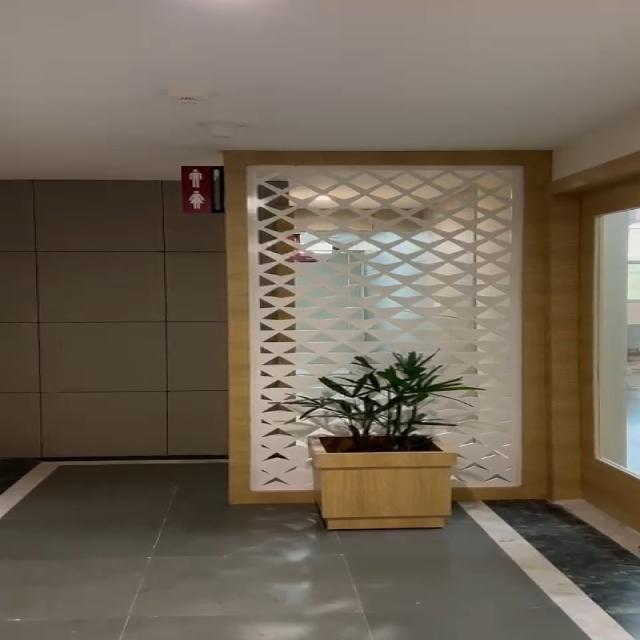door: (542, 171, 640, 514)
floor: (0, 524, 640, 640), (0, 455, 230, 525)
furniture: (297, 358, 477, 537)
